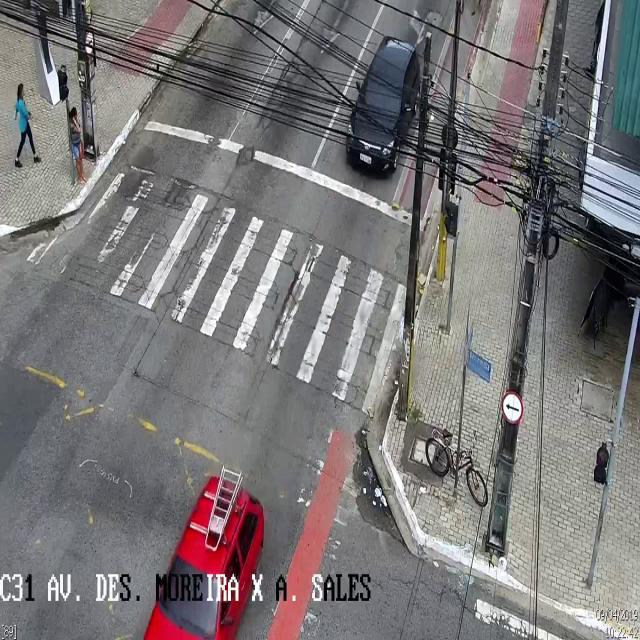Car: (144, 478, 264, 639), (346, 38, 420, 178)
